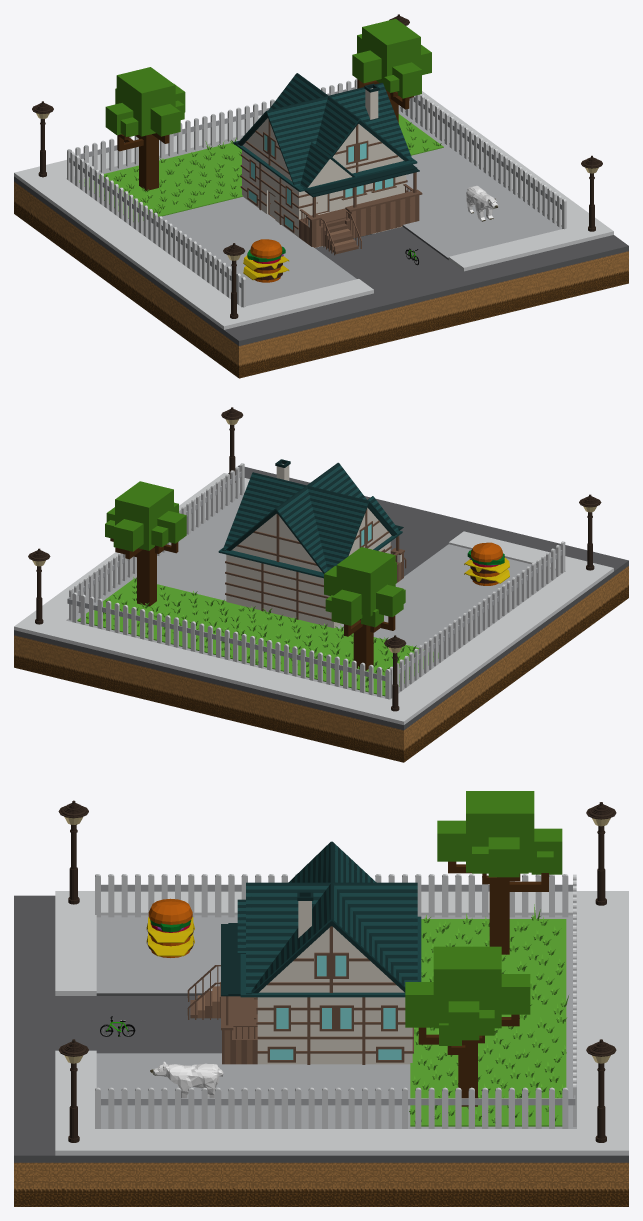
3 renders of one model, top to bottom at view 1: azimuth 30°, elevation 25°; view 2: azimuth 150°, elevation 25°; view 3: azimuth 270°, elevation 25°, orthographic. The views are drawn at different scales.
Visible parts, largest first — view 1: Cube.004, Cube.793, OBJRANDOM_HAMBURGER, ANIMAL_OSO_POLAR; view 2: Cube.004, Cube.793, OBJRANDOM_HAMBURGER; view 3: Cube.004, Cube.793, OBJRANDOM_HAMBURGER, ANIMAL_OSO_POLAR.
Part boxes in pixels (x1,y1,x2,y2): Cube.004: (14,14,628,378); Cube.793: (233,73,422,255); OBJRANDOM_HAMBURGER: (243,239,289,282); ANIMAL_OSO_POLAR: (466,185,498,221); Cube.004: (14,407,628,762); Cube.793: (218,459,406,627); OBJRANDOM_HAMBURGER: (464,542,509,585); Cube.004: (14,791,628,1206); Cube.793: (187,841,421,1064); OBJRANDOM_HAMBURGER: (146,898,194,957); ANIMAL_OSO_POLAR: (150,1061,223,1098).
Bounding box in the file's own units: 4000 × 1579 × 4000.
32 materials, 4 textured.
